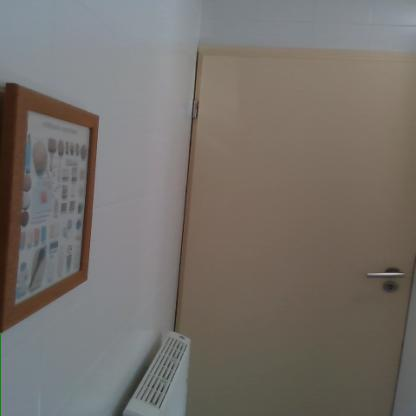door: (197, 53, 415, 391)
hinged: (190, 96, 199, 121)
lever: (364, 267, 408, 282)
